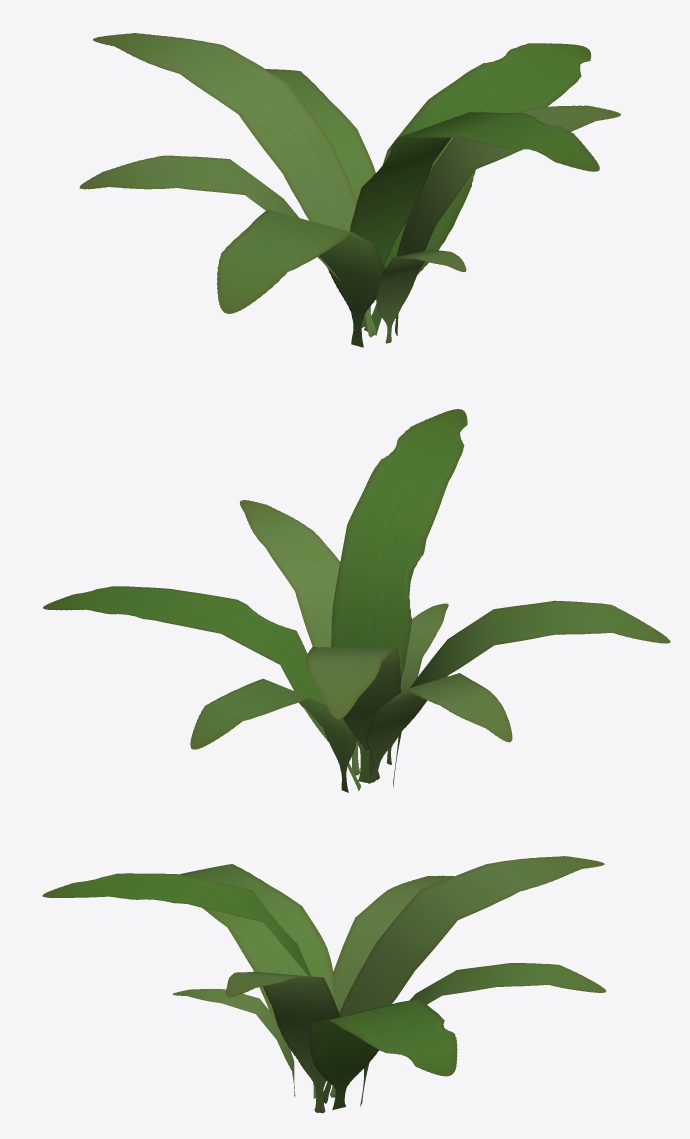
The model's file is Plant02.glb.
3 renders of one model, top to bottom at view 1: azimuth 30°, elevation 25°; view 2: azimuth 150°, elevation 25°; view 3: azimuth 270°, elevation 25°, orthographic. The views are drawn at different scales.
Visible parts, largest first — view 1: plant02; view 2: plant02; view 3: plant02.
Boxes of the visible parts, x1=… form: plant02: x1=79, y1=33, x2=620, y2=347; plant02: x1=43, y1=409, x2=670, y2=792; plant02: x1=42, y1=856, x2=606, y2=1113.
Size of the model in its own units: 1.63 by 0.7496 by 1.8.
1 material, 1 textured.
